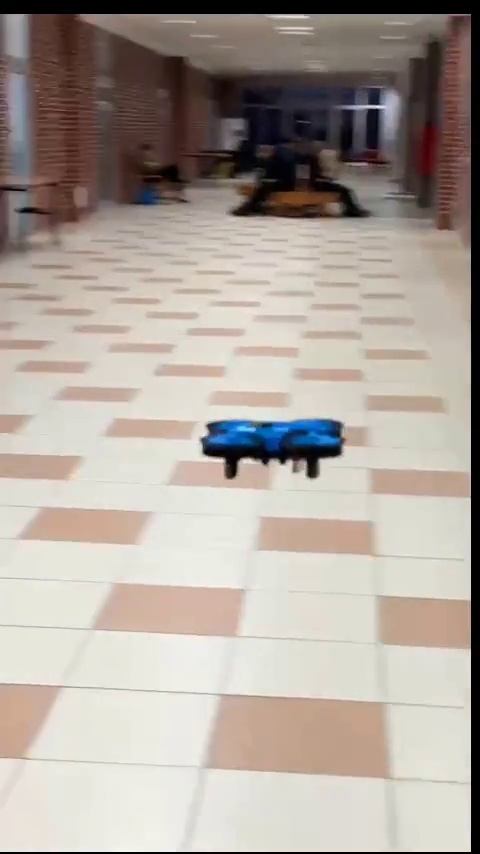drone: (204, 416, 347, 477)
